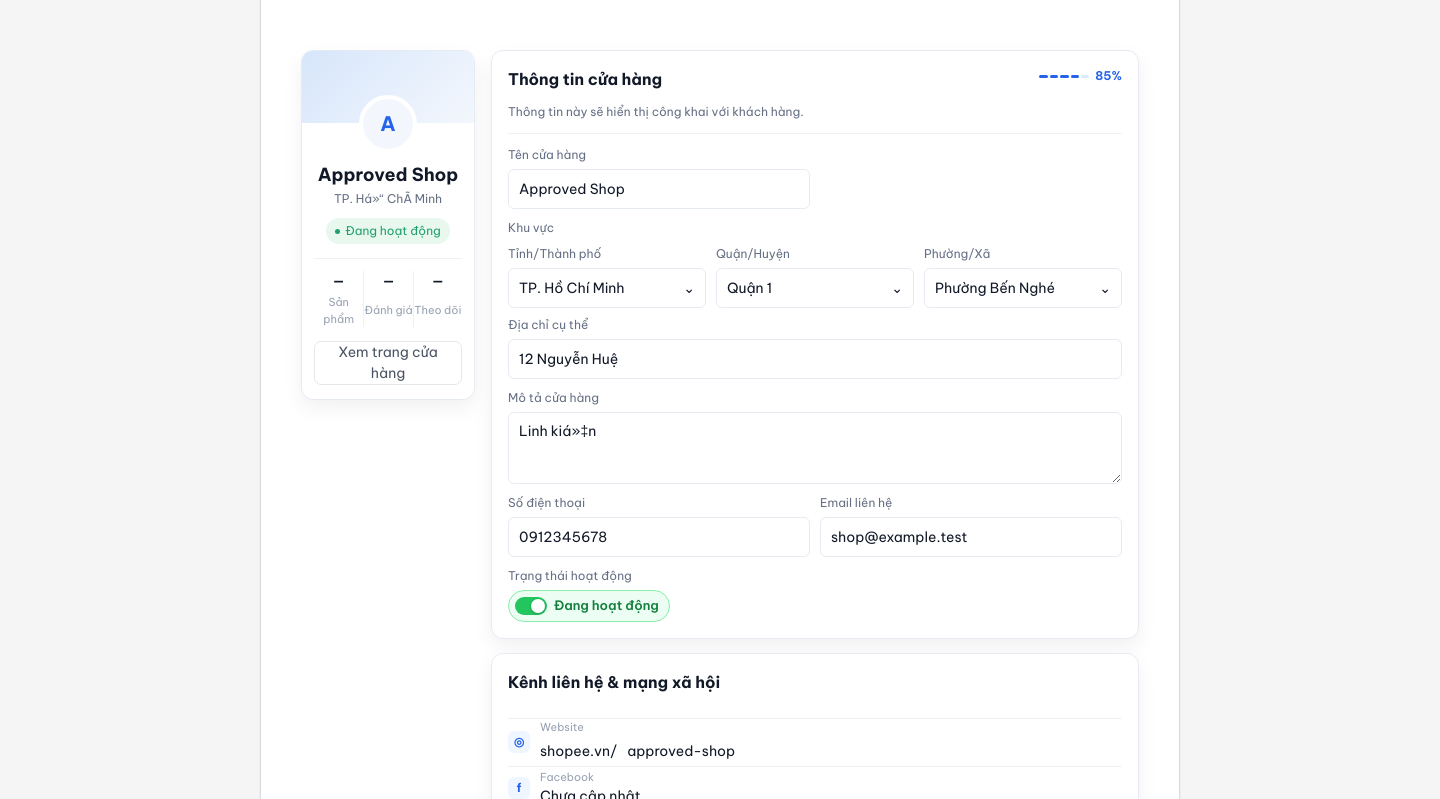
it: SellerShopManagement › edits the approved shop status after confirming the profile changes
Click the switch named "Trạng thái hoạt động" at (589, 606), box [508, 590, 670, 622]
(page scrolled)
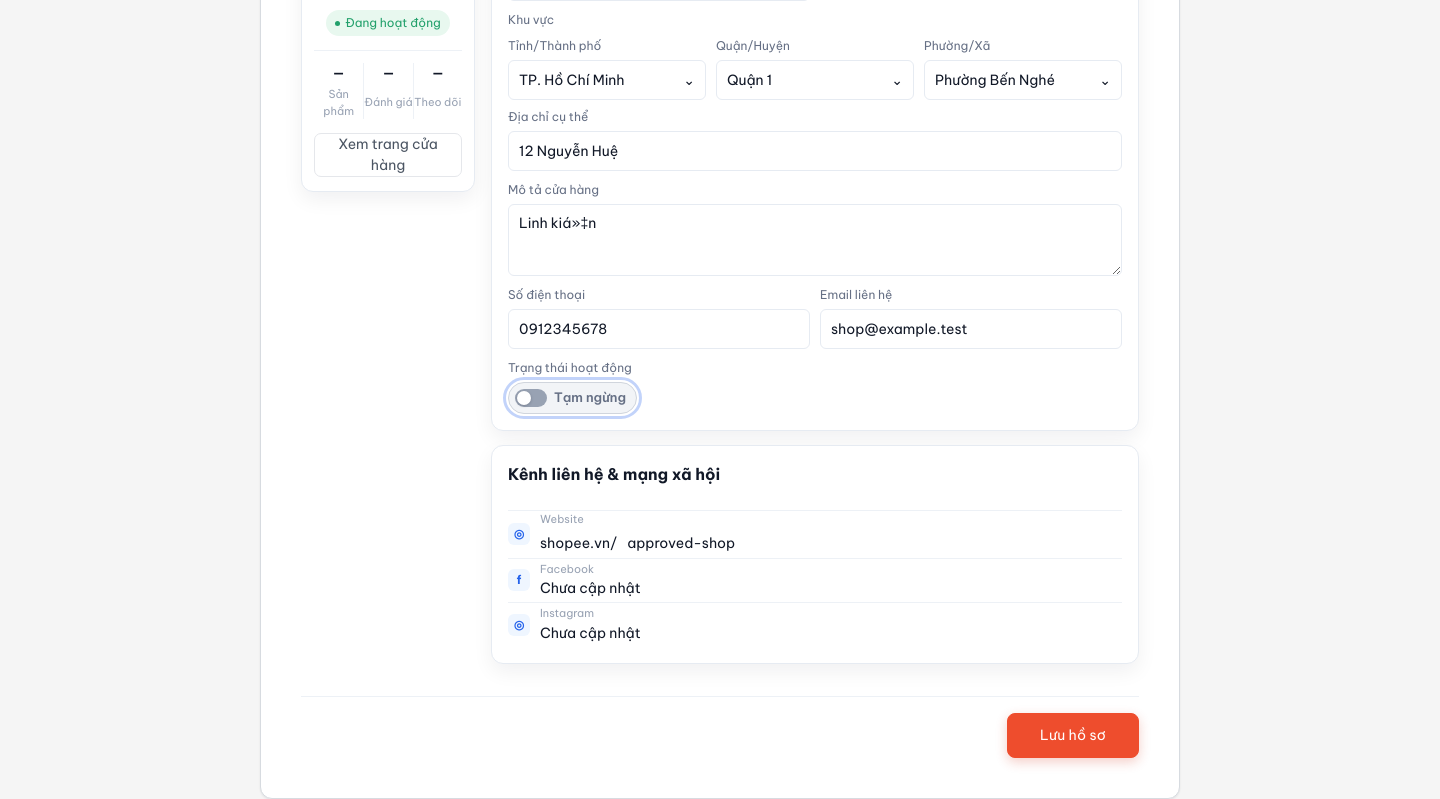
Expected: the switch named "Trạng thái hoạt động" is not checked, [508, 382, 637, 414]
Click the button "Lưu hồ sơ" at (1073, 735), box [1007, 712, 1139, 758]
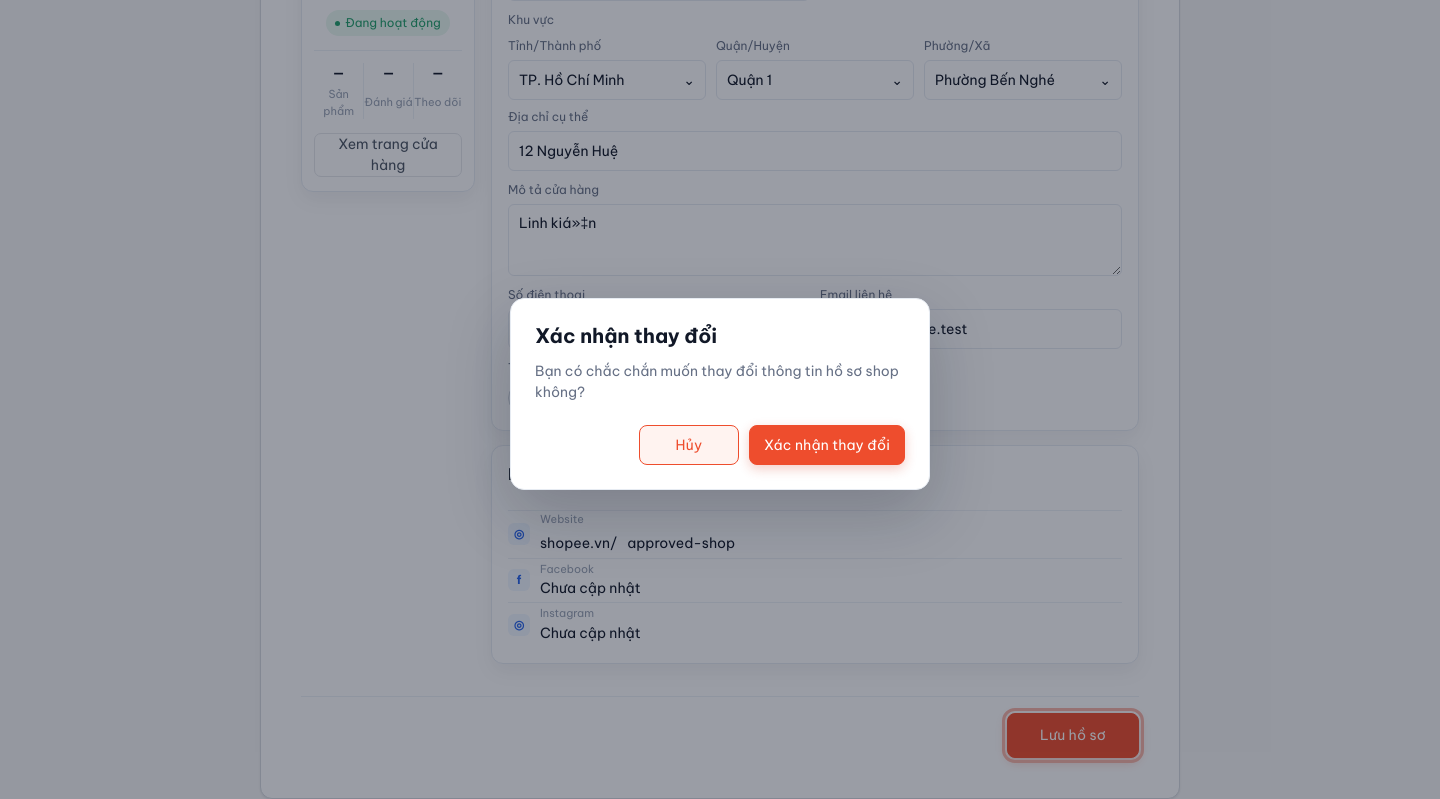
Click the button "Xác nhận thay đổi" at (827, 445), box [749, 425, 905, 465]
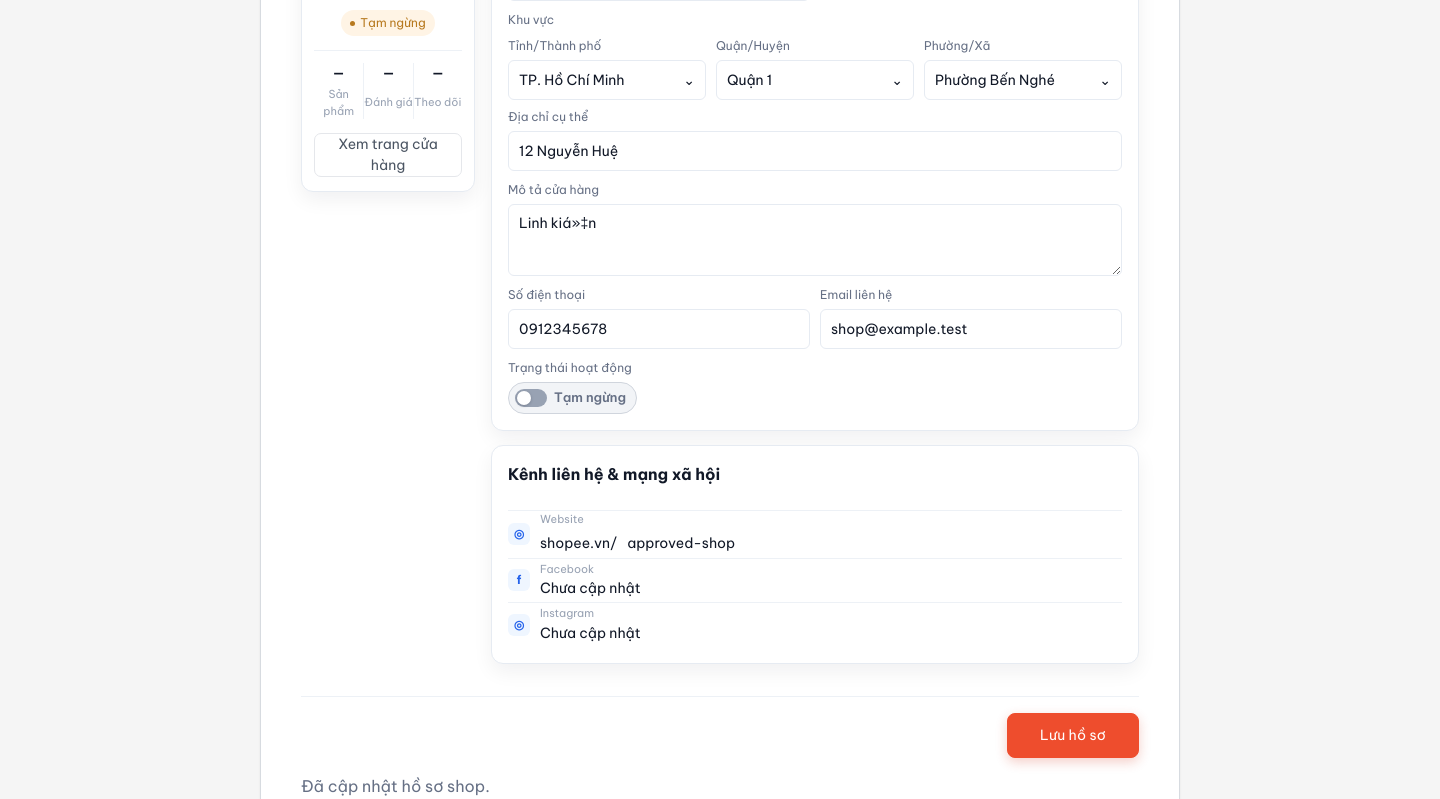
Expected: the text "Đã cập nhật hồ sơ shop." is shown, [301, 776, 490, 796]
